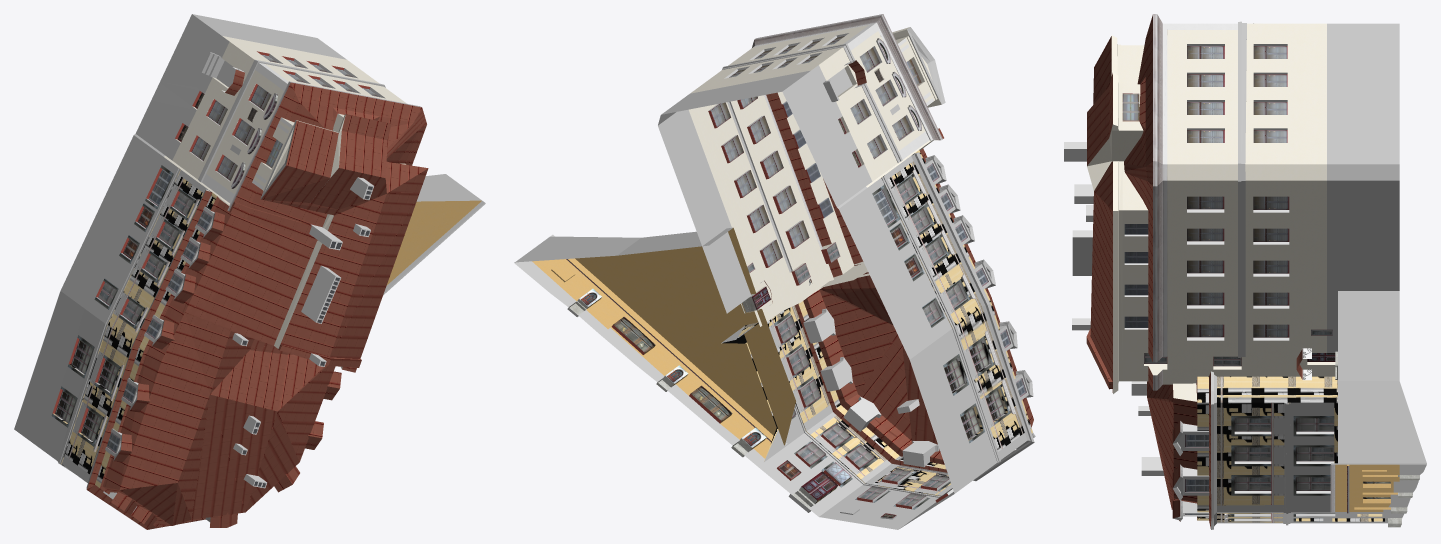
The model's file is Sulevimagi_2.obj.
3 views of the same model, side by side, from view 1: azimuth 30°, elevation 25°; view 2: azimuth 150°, elevation 25°; view 3: azimuth 270°, elevation 25° (orthographic). The views are drawn at different scales.
Parts seen in each view (by area): view 1: sulevimagi_2, xxx; view 2: sulevimagi_2, xxx; view 3: sulevimagi_2, xxx.
Part boxes in pixels (x1,y1,x2,y2): sulevimagi_2: (14,14,485,529); xxx: (416,174,481,201); sulevimagi_2: (514,14,1035,529); xxx: (514,227,732,262); sulevimagi_2: (1064,14,1426,529); xxx: (1331,291,1426,464).
Size of the model in its own units: 34.82 by 32.71 by 20.07.
